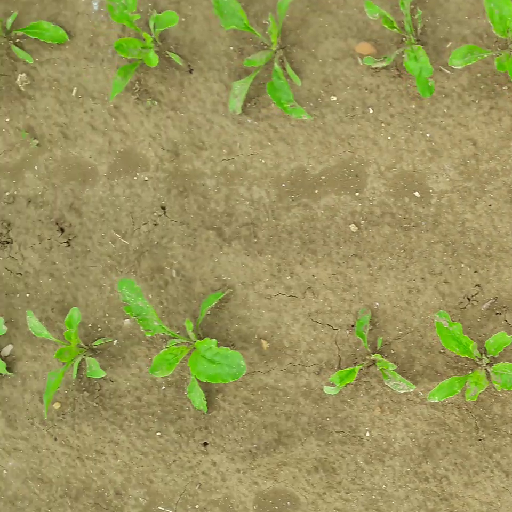sugarbeet: (116, 274, 248, 417), (208, 1, 318, 122), (23, 306, 106, 419), (326, 304, 418, 400), (108, 1, 191, 107), (423, 309, 512, 403), (359, 1, 437, 100), (448, 1, 512, 82), (1, 10, 73, 67)
weed: (17, 128, 39, 146)
